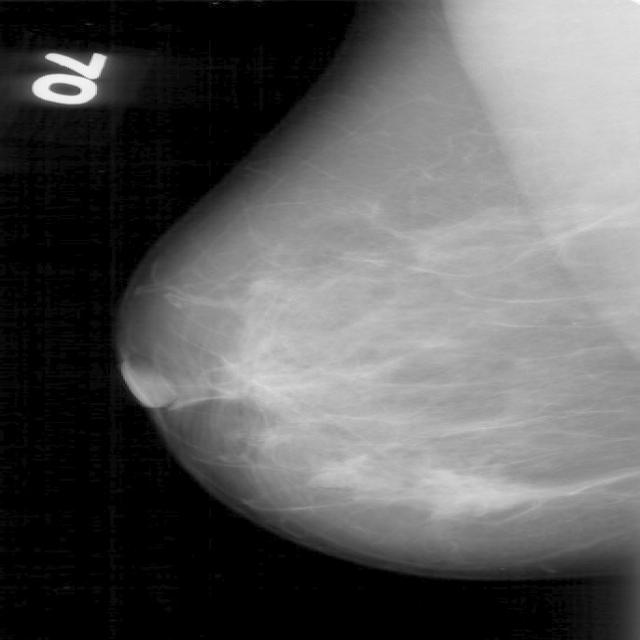tumour: (414, 470, 541, 516)
